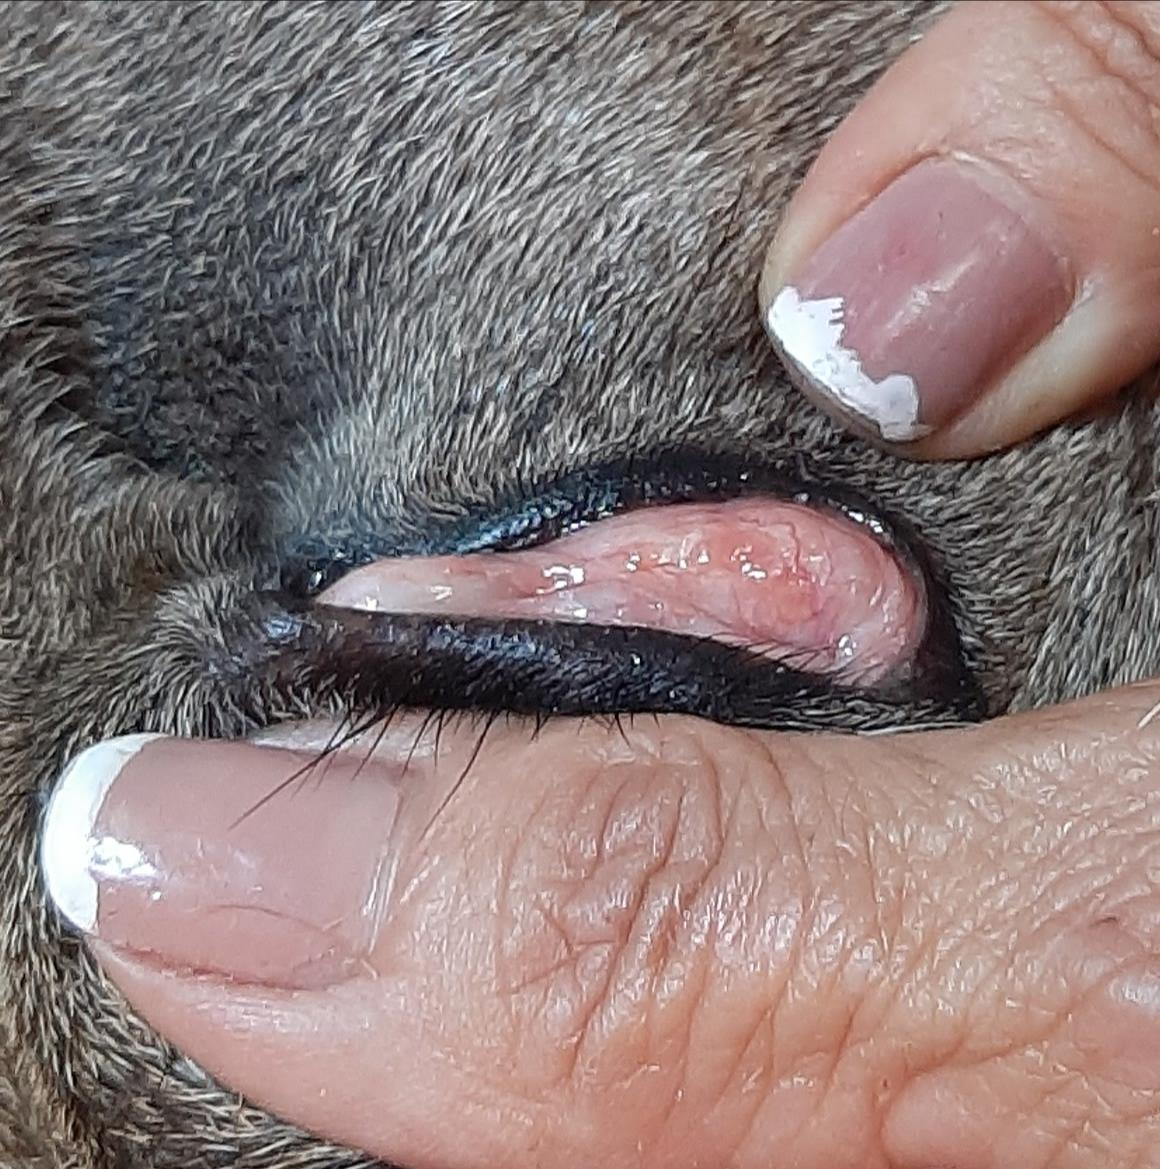eye_membrane: (325, 504, 902, 642)
